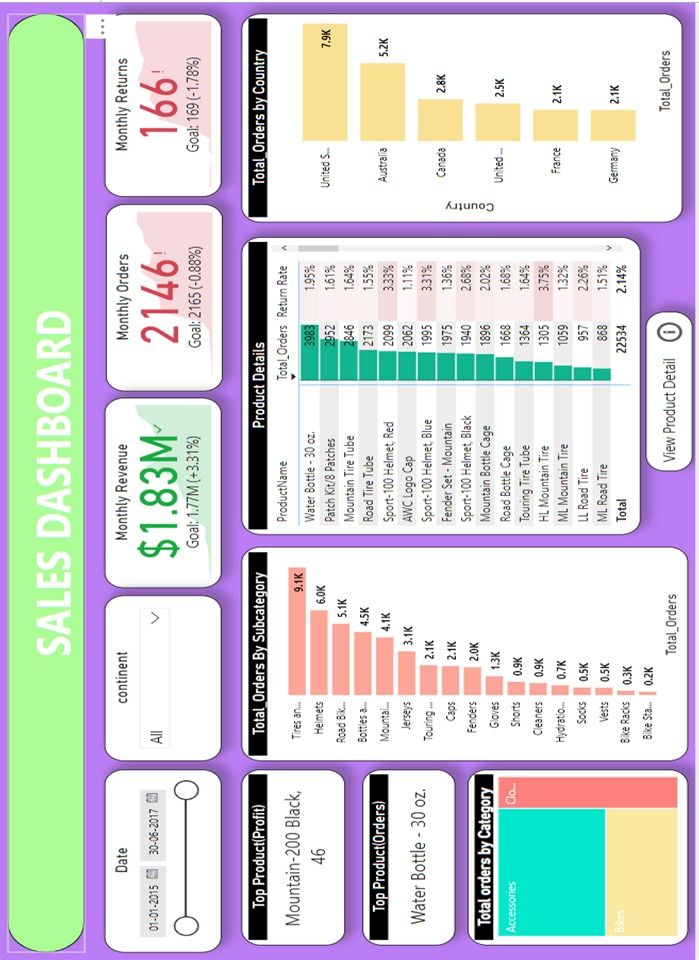

Layout of this report page (visuals, bound fields, positions):
{"tool":"powerbi","page":{"name":"Summary","canvas":[1280,720],"ordinal":0},"visuals":[{"type":"treemap","title":"Total orders by Category","fields":{"Group":["Dim_ProductCategory.CategoryName","Dim_Productsubcategory.SubcategoryName"],"Values":["Sales.Total_Orders"]},"box":[23.2,485.9,234.8,226.6],"z":0},{"type":"kpi","title":"Monthly Orders","fields":{"TrendLine":["Dim_Calender.Start of Month"],"Indicator":["Sales.Total_Orders"],"Goal":["Sales.Pre Month orders"]},"box":[761.6,114.7,249.8,120.1],"z":1000},{"type":"kpi","title":"Monthly Revenue","fields":{"TrendLine":["Dim_Calender.Start of Month"],"Goal":["Sales.Pre Month Revenue"],"Indicator":["Sales.Total Revenue"]},"box":[499.6,113.3,253.9,120.1],"z":2000},{"type":"kpi","title":"Monthly Returns","fields":{"Indicator":["Return.Total Returns"],"Goal":["Return.Pre Month Returns"],"TrendLine":["Dim_Calender.Start of Month"]},"box":[1020.9,113.3,244.3,120.1],"z":3000},{"type":"slicer","title":"Date","fields":{"Values":["Dim_Calender.Date"]},"box":[13.6,113.3,244.3,120.1],"z":4000},{"type":"card","title":"Top Product(Orders)","fields":{"Values":["Min(Dim_Products.ProductName)"]},"box":[23.2,378.1,234.8,95.5],"z":5000},{"type":"card","title":"Top Product(Profit)","fields":{"Values":["Min(Dim_Products.ProductName)"]},"box":[23.2,253.9,234.8,106.5],"z":6000},{"type":"barChart","title":"Total_Orders By Subcategory ","fields":{"Y":["Sales.Total_Orders"],"Category":["Dim_Productsubcategory.SubcategoryName"]},"box":[268.9,253.9,285.3,458.6],"z":7000},{"type":"slicer","title":"continent","fields":{"Values":["Dim_Territory.Continent"]},"box":[268.9,113.3,221.1,120.1],"z":8000},{"type":"pivotTable","title":"Product Details","fields":{"Rows":["Dim_Products.ProductName"],"Values":["Sales.Total_Orders","Return.Return Rate"]},"box":[570.5,253.9,397.2,409.5],"z":9000},{"type":"textbox","box":[655.2,668.8,212.9,47.8],"z":10000},{"type":"actionButton","box":[823,675.6,50.5,35.5],"z":11000},{"type":"barChart","fields":{"Category":["Dim_Territory.Country"],"Y":["Sales.Total_Orders"]},"box":[986.8,253.9,278.4,453.1],"z":12000},{"type":"shape","box":[13.6,13.6,1251.6,79.2],"z":13000}]}

Visuals, with their boxes on the page's 1280x720 design canvas (x1, y1, x2, y2). These are canvas units, not pixel positions in the 699x960 screenshot, which may show the page scaled, cropped or inside an application window:
"Total orders by Category" treemap: crop(23, 486, 258, 712)
"Monthly Orders" kpi: crop(762, 115, 1011, 235)
"Monthly Revenue" kpi: crop(500, 113, 754, 233)
"Monthly Returns" kpi: crop(1021, 113, 1265, 233)
"Date" slicer: crop(14, 113, 258, 233)
"Top Product(Orders)" card: crop(23, 378, 258, 474)
"Top Product(Profit)" card: crop(23, 254, 258, 360)
"Total_Orders By Subcategory " barChart: crop(269, 254, 554, 712)
"continent" slicer: crop(269, 113, 490, 233)
"Product Details" pivotTable: crop(570, 254, 968, 663)
textbox: crop(655, 669, 868, 717)
actionButton: crop(823, 676, 874, 711)
barChart - Dim_Territory.Country x Sales.Total_Orders: crop(987, 254, 1265, 707)
shape: crop(14, 14, 1265, 93)
